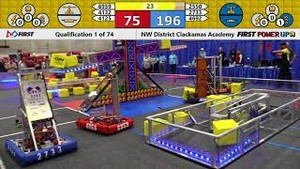cube: (211, 118, 243, 146), (166, 111, 189, 128), (144, 118, 165, 136), (48, 51, 66, 70), (181, 85, 196, 101), (207, 95, 222, 109), (158, 37, 173, 50), (57, 88, 70, 99), (73, 86, 85, 96), (230, 83, 242, 93), (64, 71, 74, 79)
